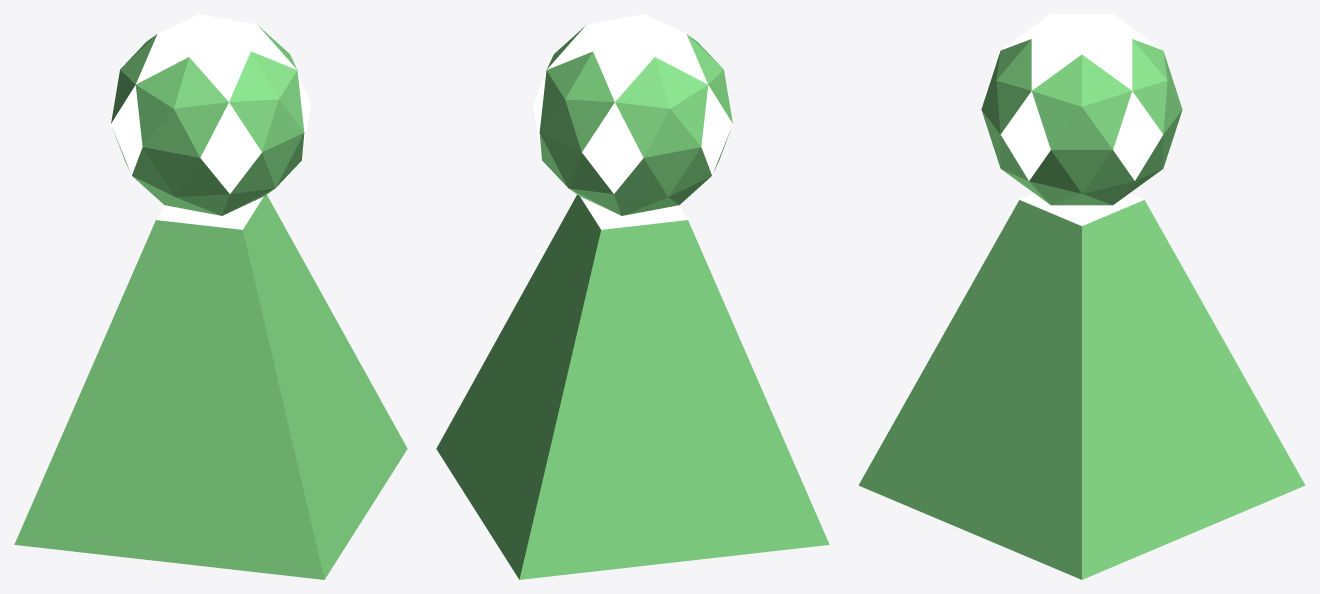
The model's file is Prop2.fbx.
The picture shows the model from 3 angles, left to right: view 1: azimuth 30°, elevation 25°; view 2: azimuth 150°, elevation 25°; view 3: azimuth 270°, elevation 25°; orthographic projection.
Visible parts, largest first — view 1: Cone; view 2: Cone; view 3: Cone.
Boxes of the visible parts, x1=… form: Cone: x1=14, y1=14, x2=407, y2=579; Cone: x1=436, y1=14, x2=829, y2=579; Cone: x1=858, y1=14, x2=1305, y2=579.
Size of the model in its own units: 200 by 231 by 200.
